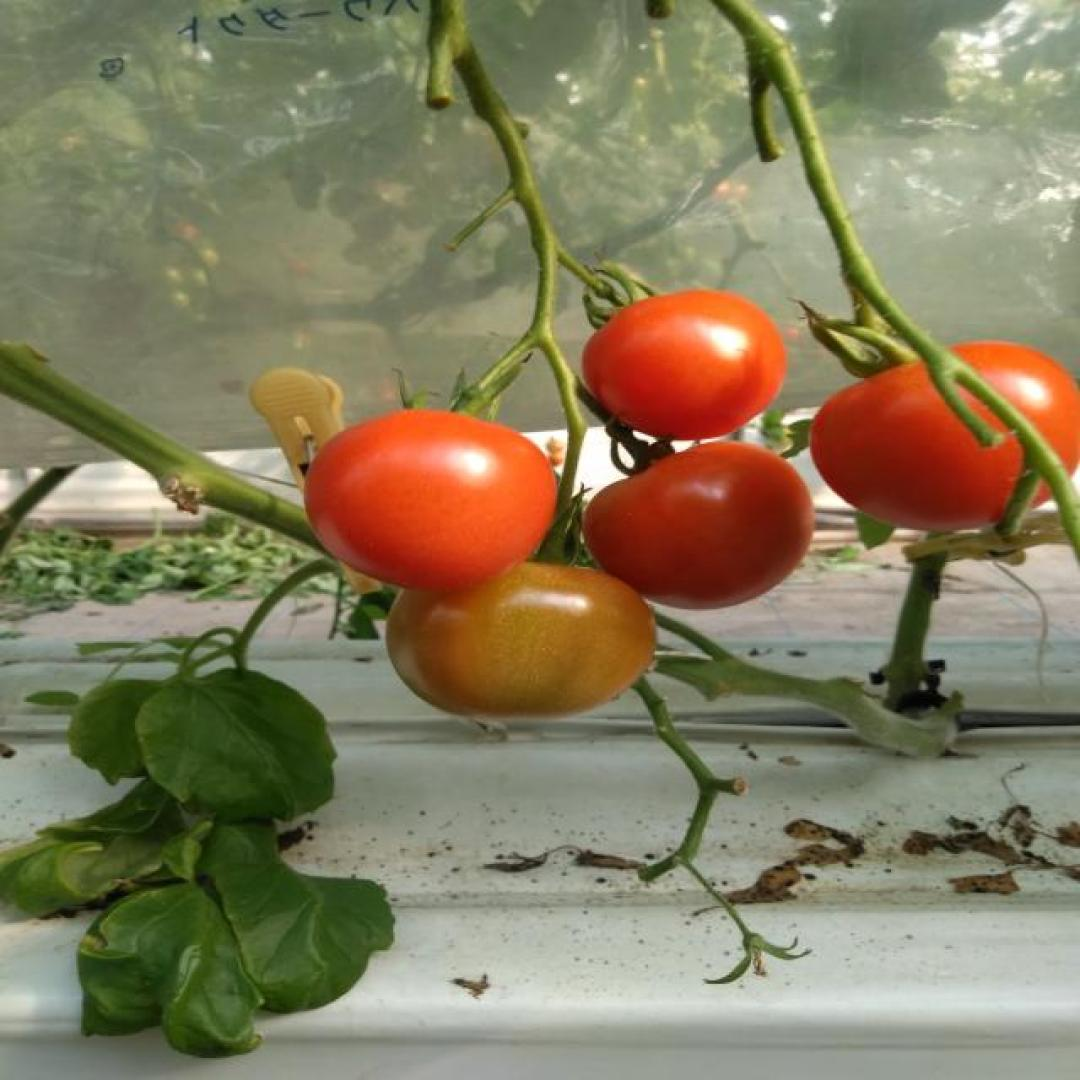matang: (808, 341, 1080, 531), (304, 408, 558, 592), (579, 440, 817, 610), (582, 289, 790, 442)
setengah_matang: (383, 562, 658, 720)
